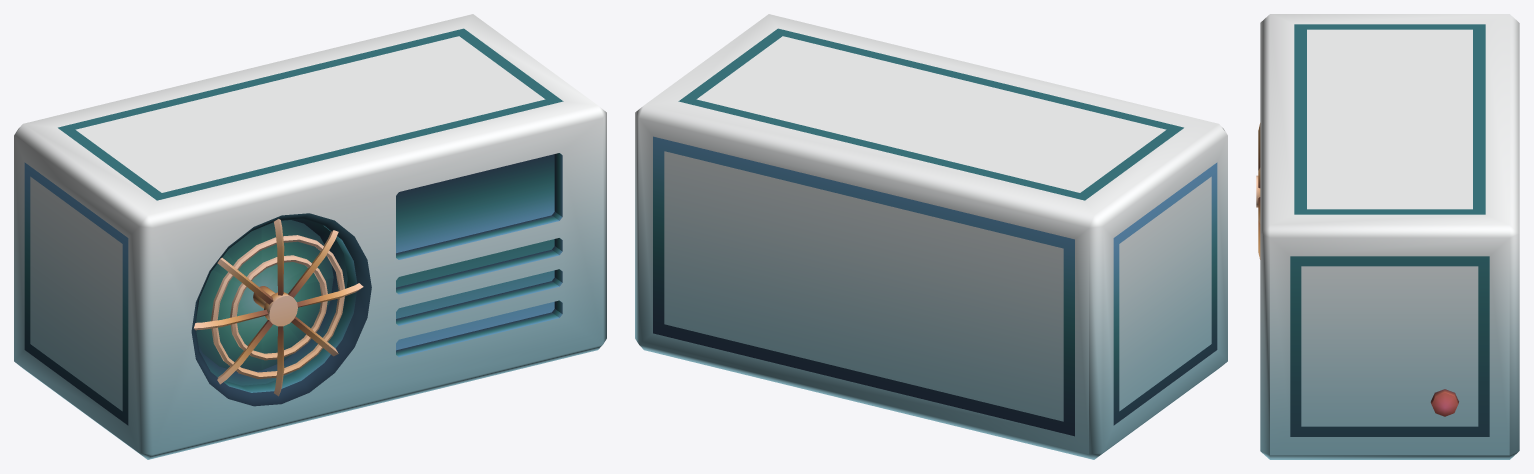
File: SM_Fan.fbx
3 renders of one model, left to right at view 1: azimuth 30°, elevation 25°; view 2: azimuth 150°, elevation 25°; view 3: azimuth 270°, elevation 25°, orthographic. The views are drawn at different scales.
Parts seen in each view (by area): view 1: SM_Fan; view 2: SM_Fan; view 3: SM_Fan.
Part boxes in pixels (<box>): SM_Fan: <box>14,14,606,459</box>; SM_Fan: <box>635,14,1227,459</box>; SM_Fan: <box>1256,14,1519,459</box>.
Size of the model in its own units: 410 by 200 by 203.
